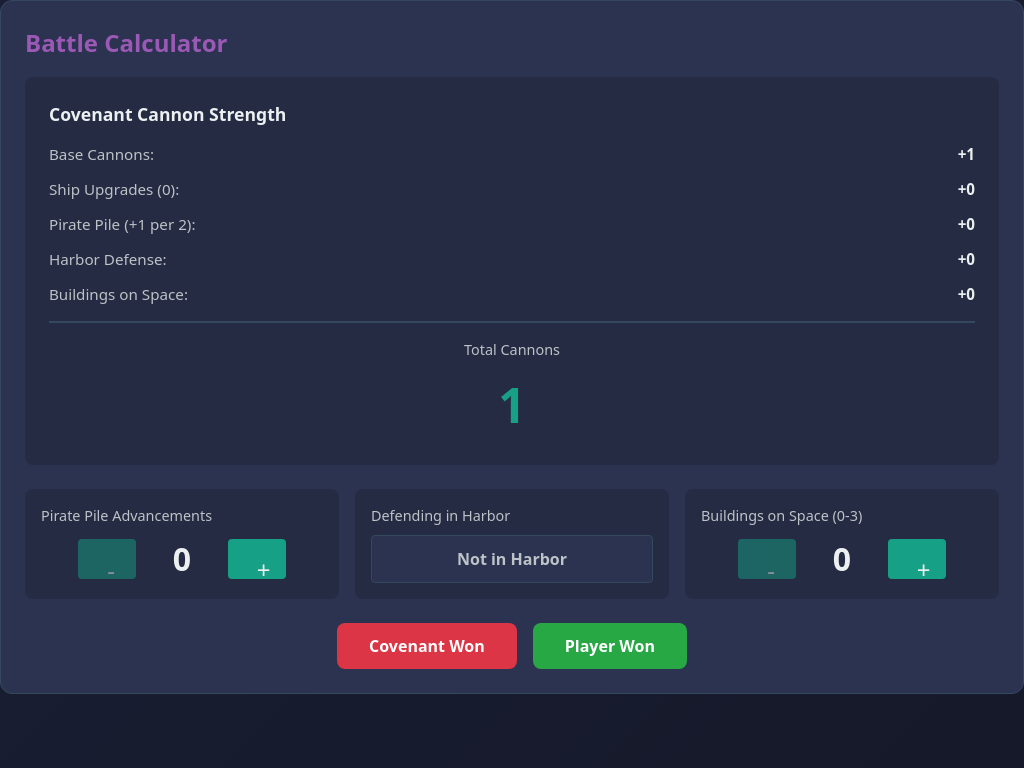
Test case: BattleCalculator › Buildings on Space Input › adds to cannon calculation
This screenshot has width=1024, height=768.
Click the button named "Increase buildings on space" at (917, 559), box [888,539,946,579]
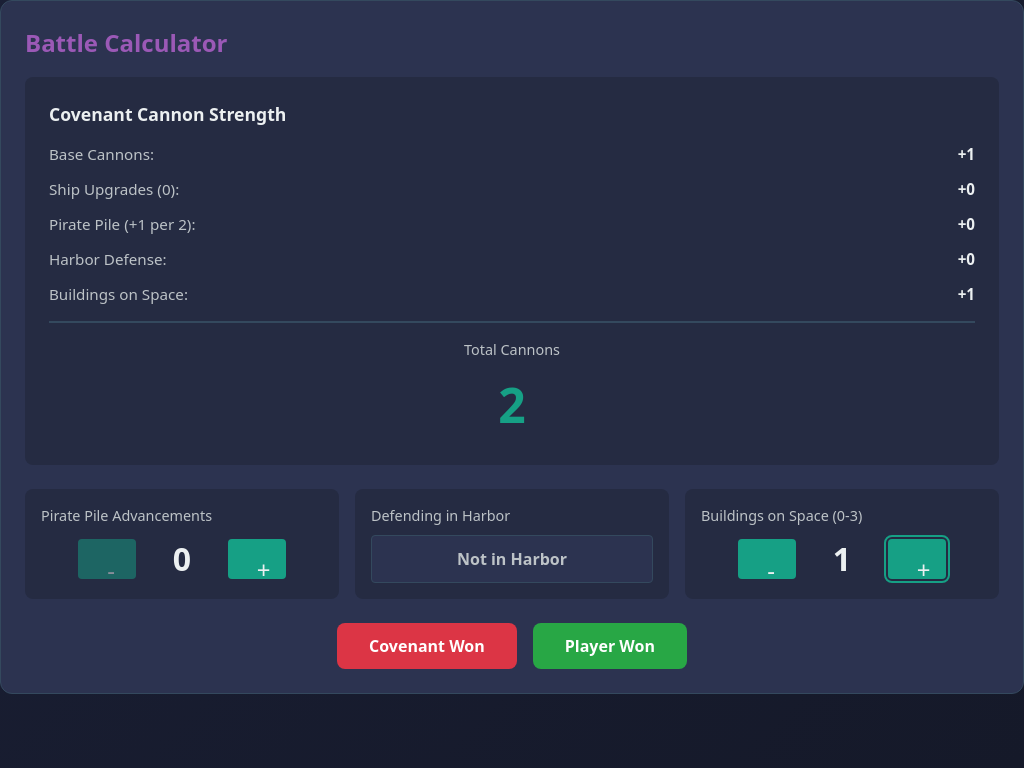
Click the button named "Increase buildings on space" at (917, 559), box [888,539,946,579]
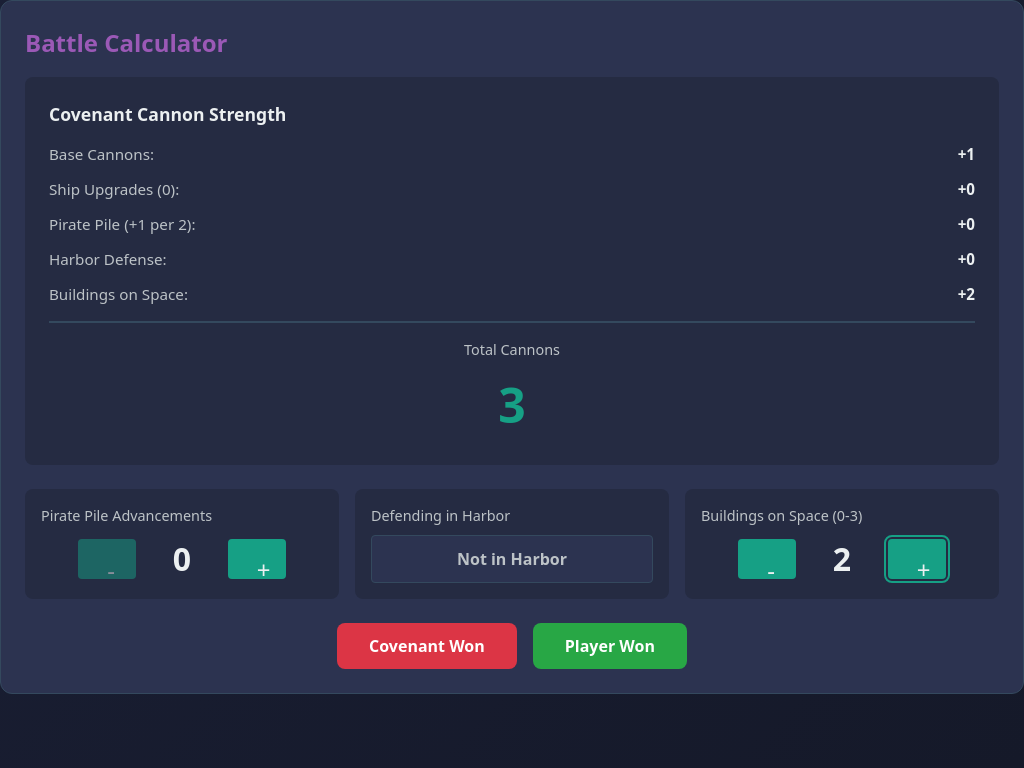
Expected: the text "Covenant Cannon Strength" shows "3", [498,372,526,437]
